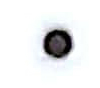cancer: (27, 17, 91, 73)
